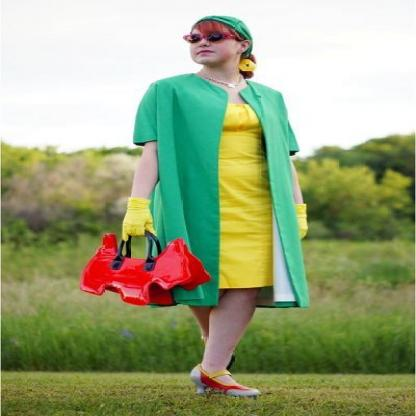bag: (80, 230, 210, 307)
dress: (218, 103, 274, 288)
jacket: (112, 73, 311, 307)
shoe: (187, 358, 236, 396)
sunglass: (188, 31, 229, 43)
